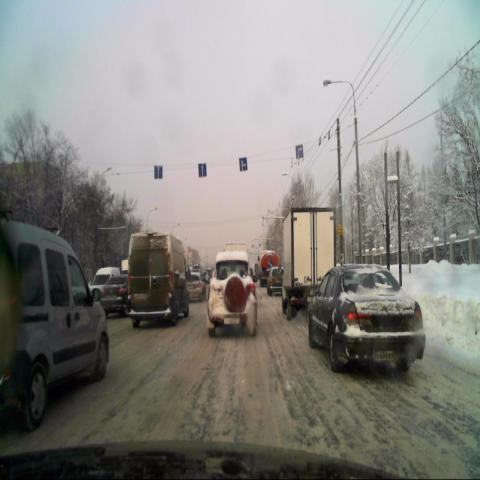5_15_2: (239, 156, 248, 171), (198, 162, 206, 177), (296, 145, 304, 160), (153, 165, 162, 178)
